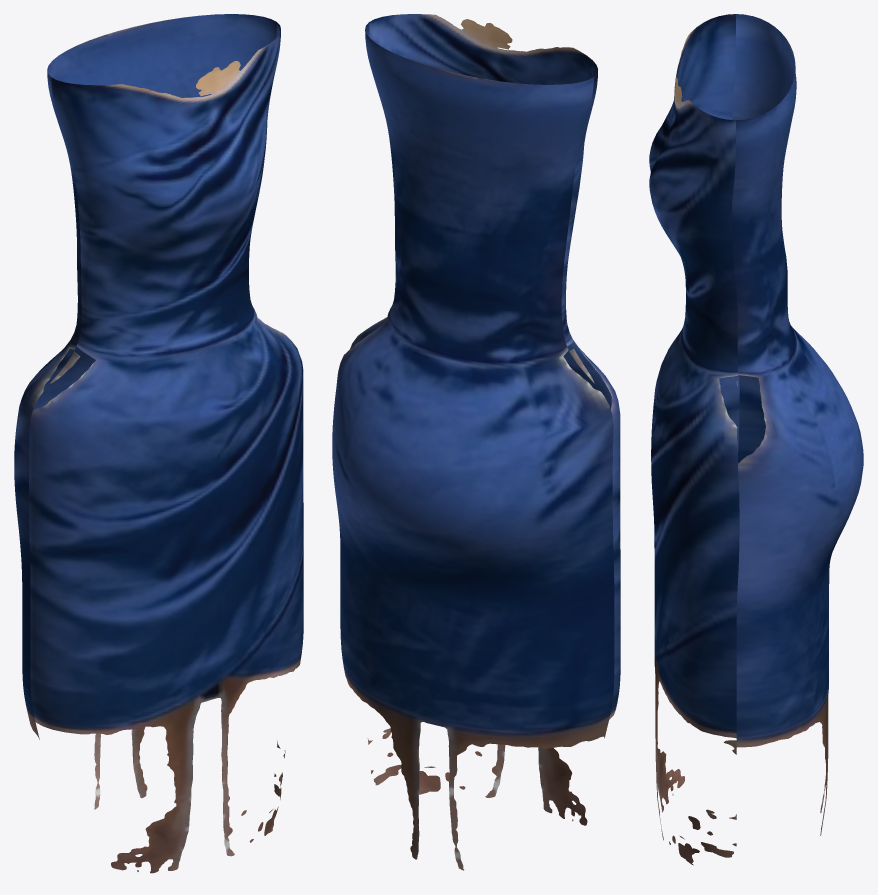
The model's file is prod-ae-cobalt-draped-mini.glb.
3 views of the same model, side by side, from view 1: azimuth 30°, elevation 25°; view 2: azimuth 150°, elevation 25°; view 3: azimuth 270°, elevation 25° (orthographic). The views are drawn at different scales.
Visible parts, largest first — view 1: prod-ae-cobalt-draped-mini; view 2: prod-ae-cobalt-draped-mini; view 3: prod-ae-cobalt-draped-mini.
Part boxes in pixels (x1,y1,x2,y2): prod-ae-cobalt-draped-mini: (14,14,303,873); prod-ae-cobalt-draped-mini: (332,14,620,870); prod-ae-cobalt-draped-mini: (649,14,863,865).
Size of the model in its own units: 0.2922 by 0.8297 by 0.2111.
1 material, 1 textured.
